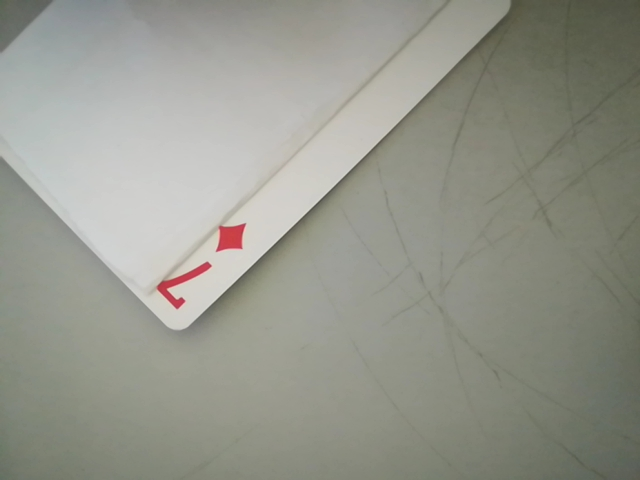fk 7: (143, 215, 261, 324)
